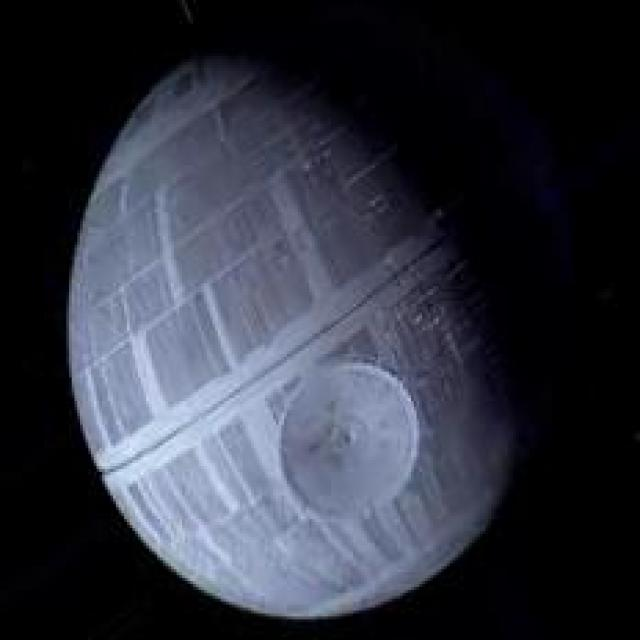deathstar: (69, 49, 549, 617)
